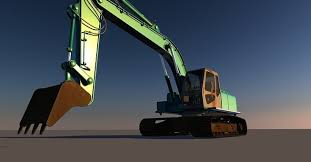excavator: (23, 2, 249, 141)
